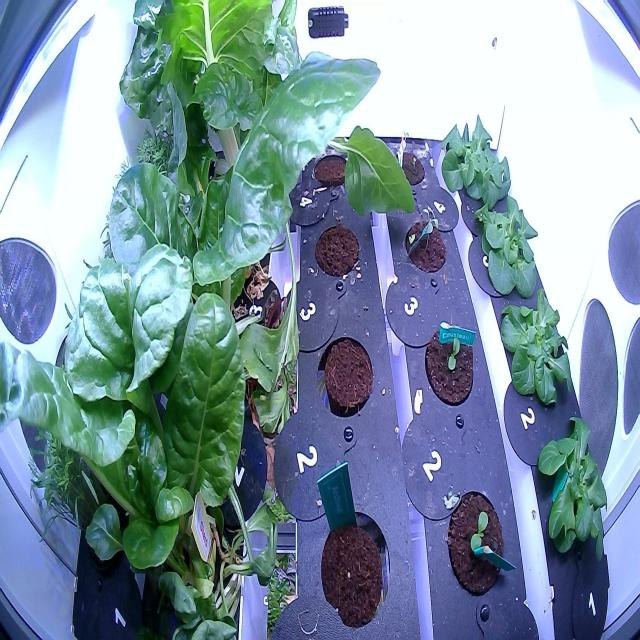germination: (440, 487, 510, 602), (420, 319, 479, 410), (399, 199, 451, 275), (385, 130, 428, 191)
pod: (318, 506, 394, 630), (313, 328, 376, 422), (311, 219, 362, 278), (310, 144, 354, 188)
